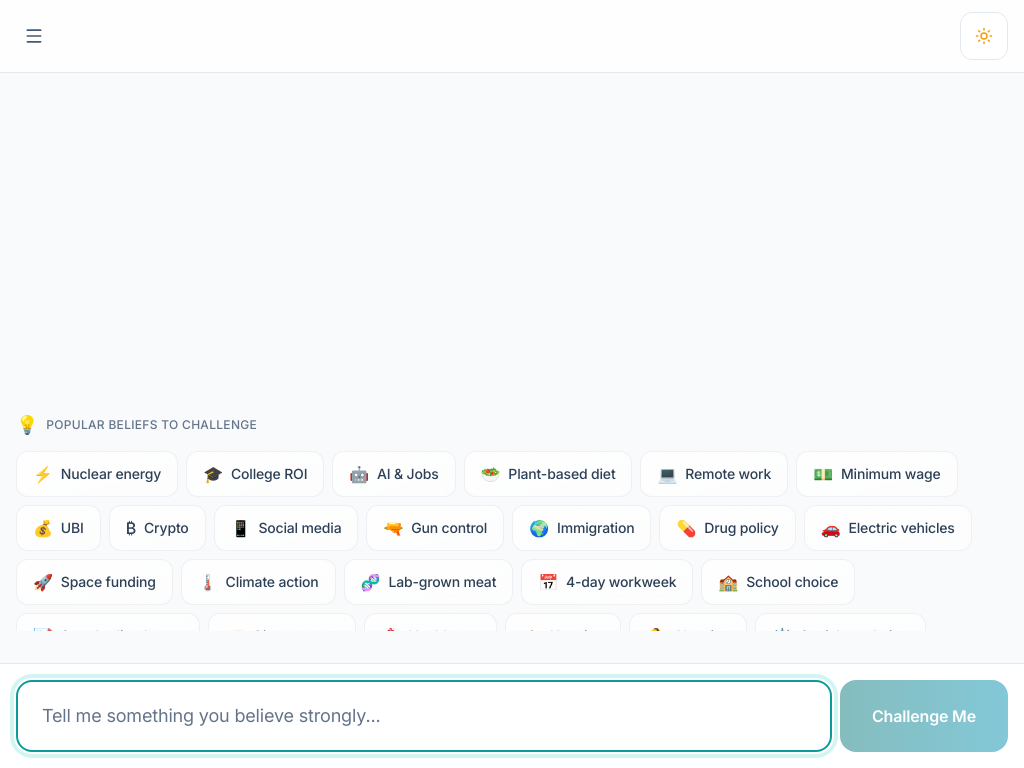
ChatInterface › displays error message on API failure
In the field with placeholder "Tell me something you believe strongly...": (424,716) [16,680,832,752], type "Test message"
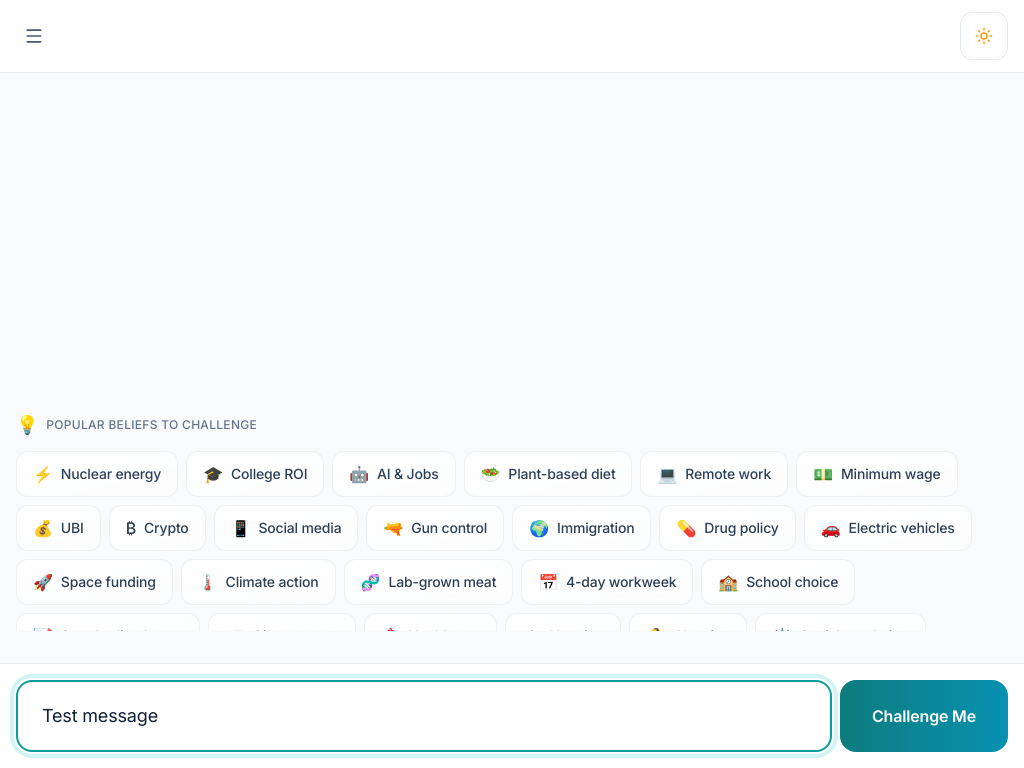
Click the button "Challenge Me": (924,716) [840,680,1008,752]
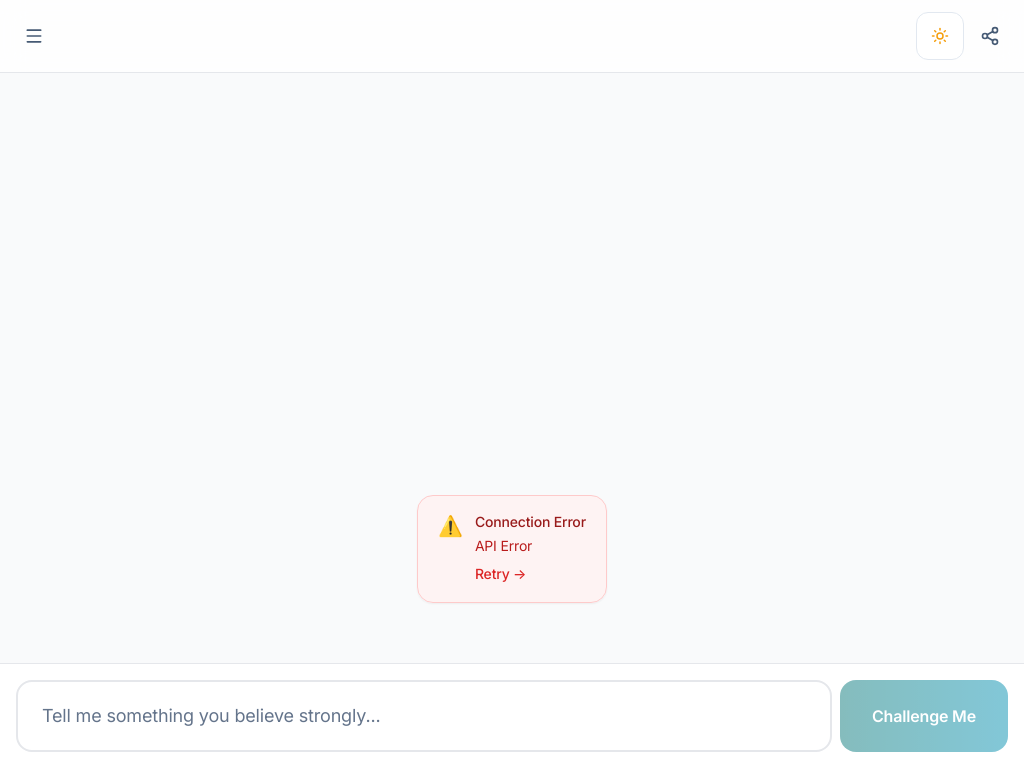
Now the text "Connection Error" is shown, box [475,512,586,532]
